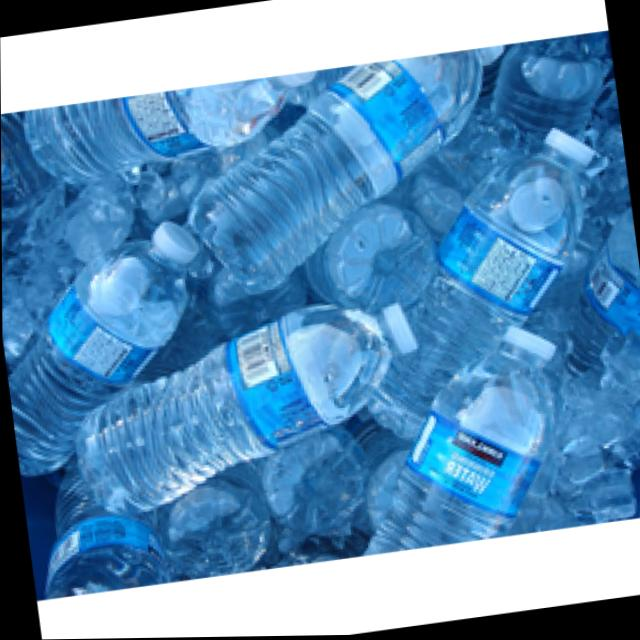plastic_water_bottles: (173, 287, 427, 449), (458, 111, 622, 279), (76, 205, 207, 321), (464, 327, 574, 445)
